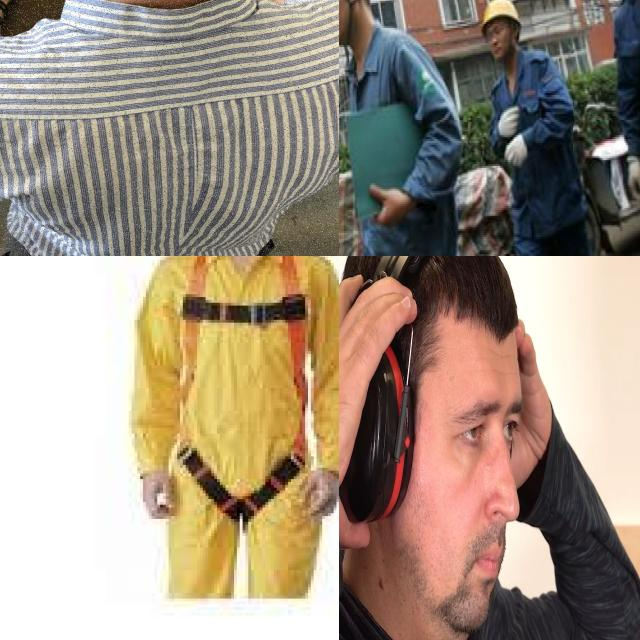Ear-protection: (339, 256, 537, 640)
Harness: (176, 256, 309, 520)
No_Glasses: (427, 370, 530, 469)
hand_glove: (497, 106, 528, 166)
head_helmet: (485, 0, 521, 32)
